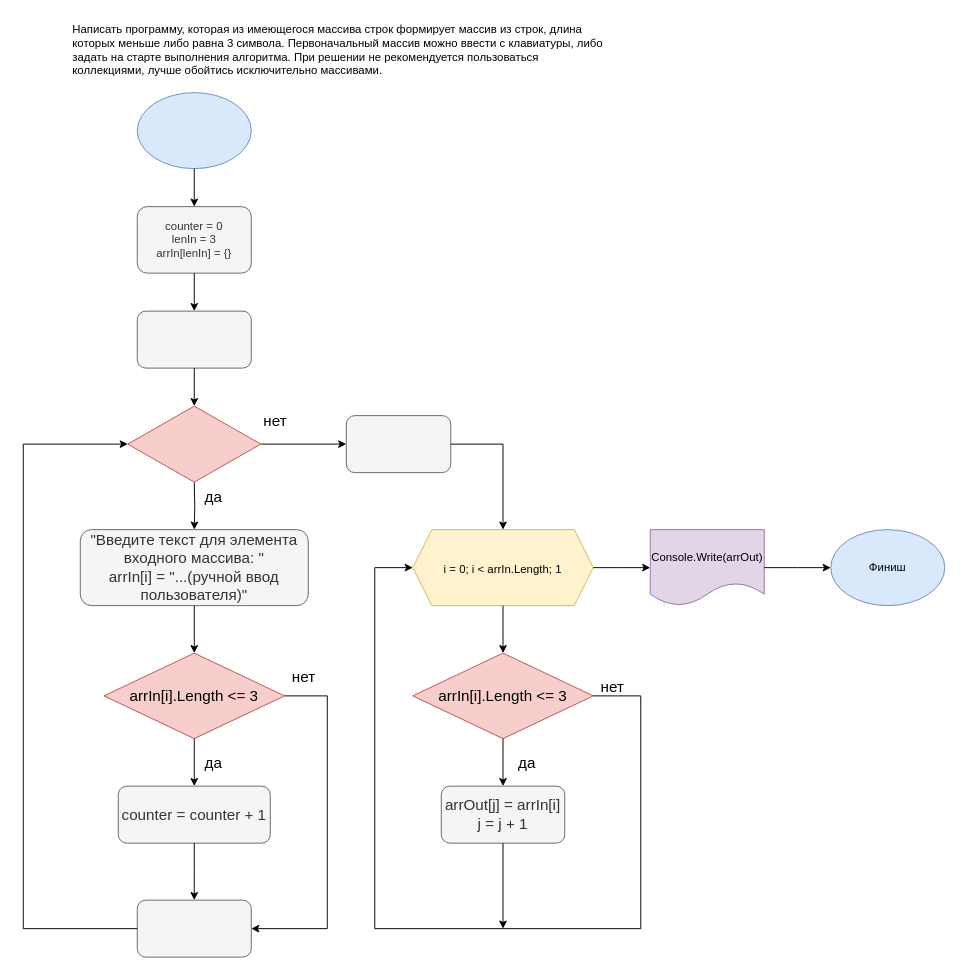
Some shapes in this 961 by 974 pixel diagram are drawn without their labels. Here are the shapes that lost their labels. From the top down, the box of each, then its label:
(136, 92, 251, 169): Старт
(136, 310, 251, 368): i = 0
(127, 405, 261, 482): i < arrIn.Length
(345, 415, 451, 473): arrOut[counter] j = 0
(136, 899, 251, 957): i = i + 1
